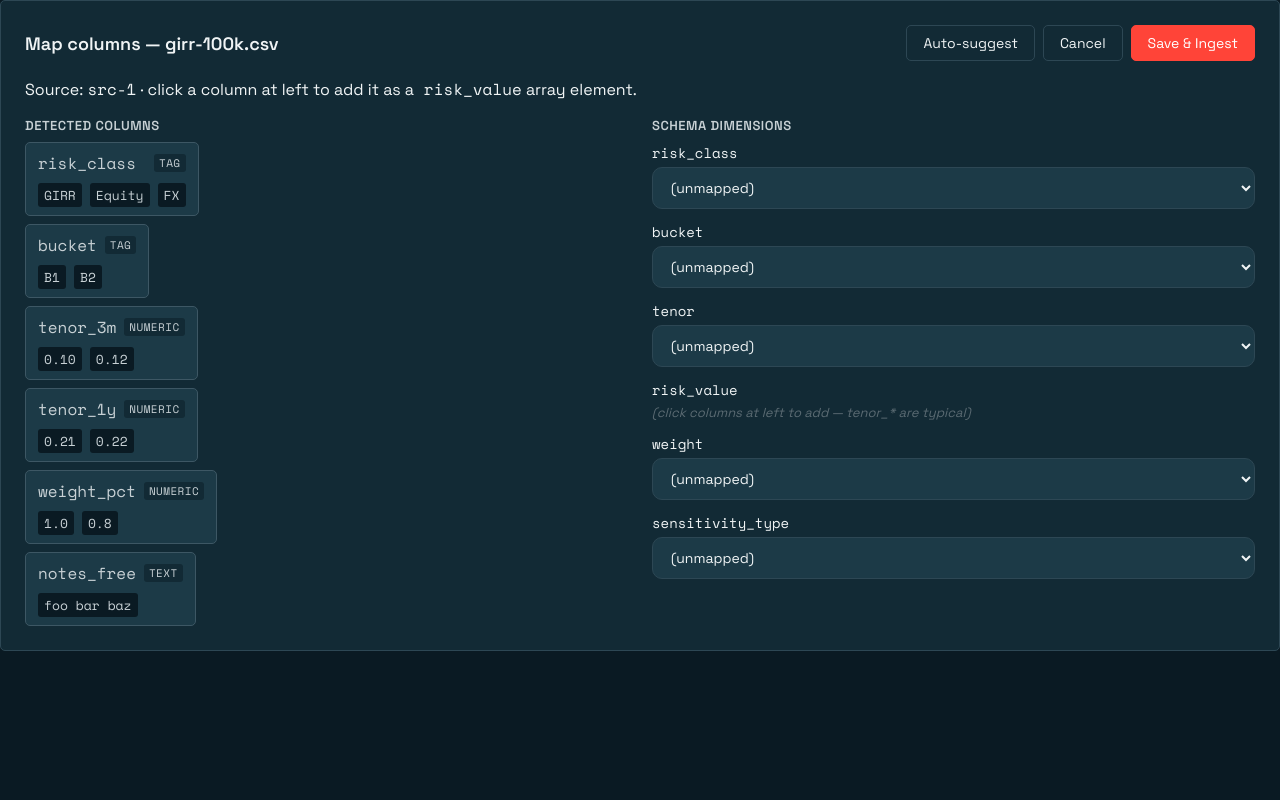
MappingWizard › clicking a column row toggles its membership in the risk_value array
Step 1. Click the button with test id "column-tenor_3m" → [111, 343], box left=25, top=306, right=198, bottom=380
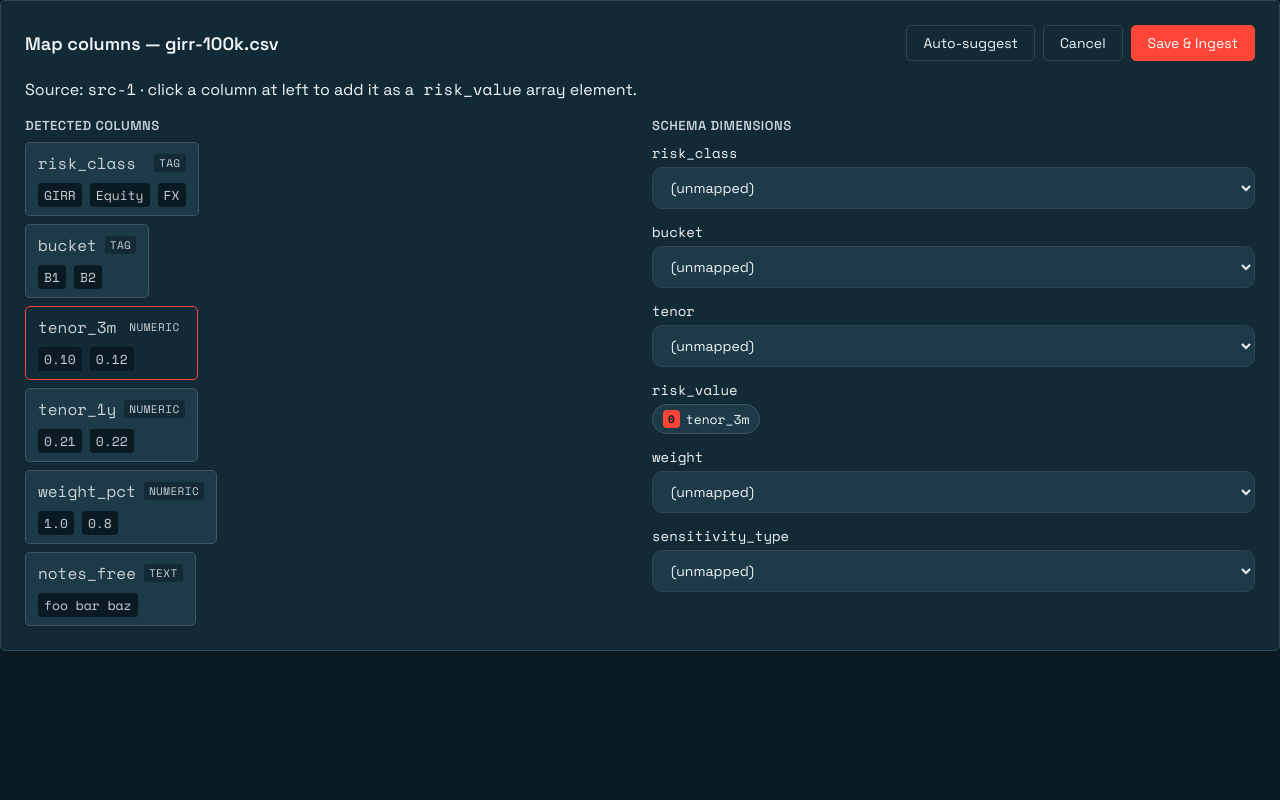
Step 2. Click the button with test id "column-tenor_1y" → [111, 425], box left=25, top=388, right=198, bottom=462
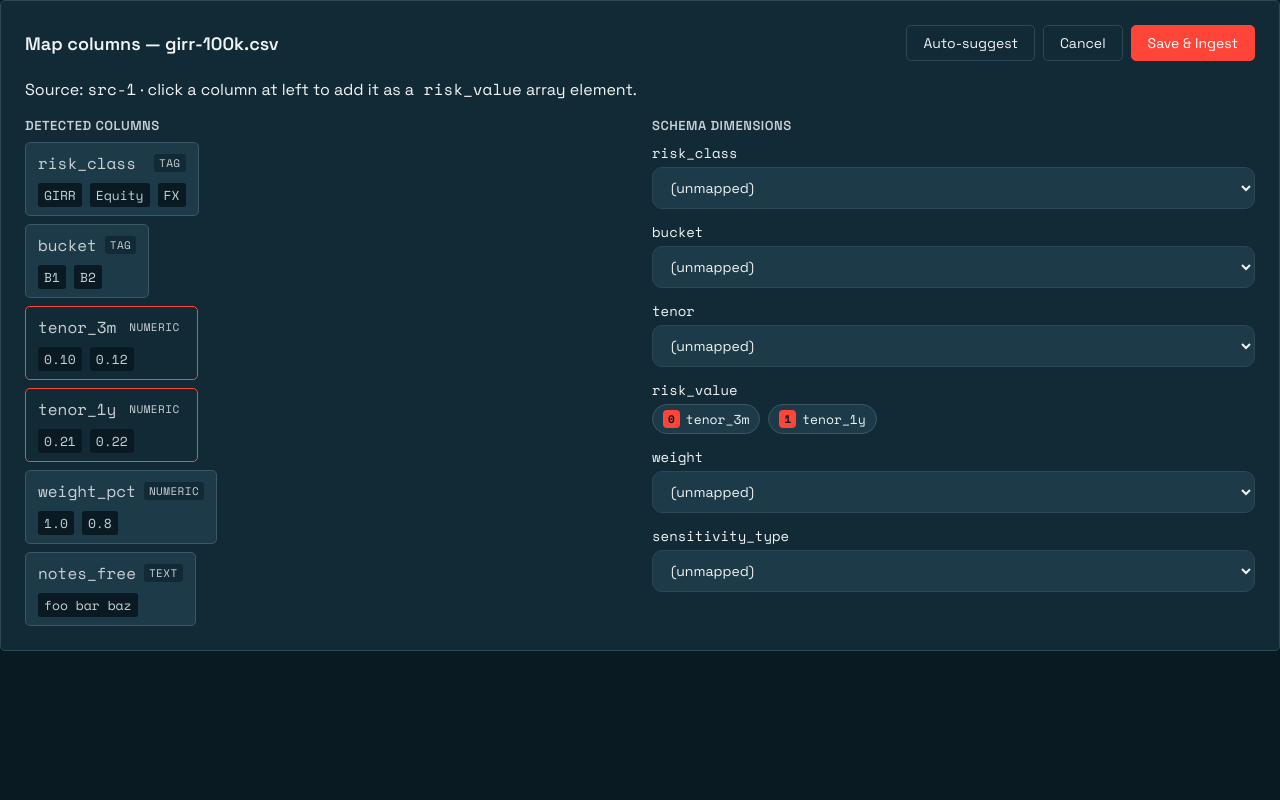
Check: the text "tenor_3m" is shown, box left=686, top=409, right=749, bottom=429
Check: the text "tenor_1y" is shown, box left=802, top=409, right=866, bottom=429
